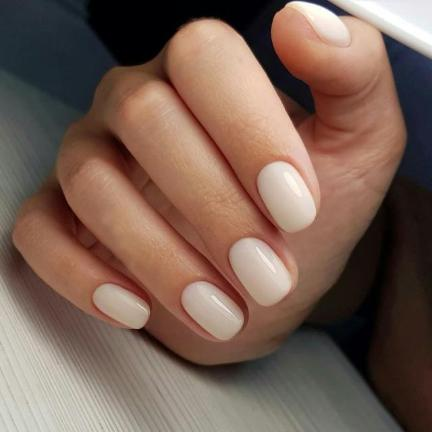Nail: (229, 238, 292, 307), (256, 161, 316, 233), (181, 281, 244, 341), (286, 1, 350, 46), (92, 283, 151, 329)
